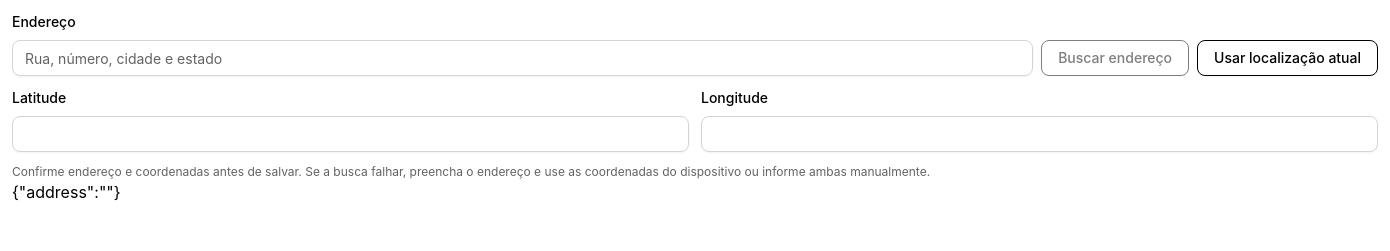
Test: keeps device coordinates but asks for a manual address if reverse lookup fails
The width and height of the screenshot is (1390, 251).
Click the button "Usar localização atual".
click(1288, 58)  # box [1197,40,1378,76]
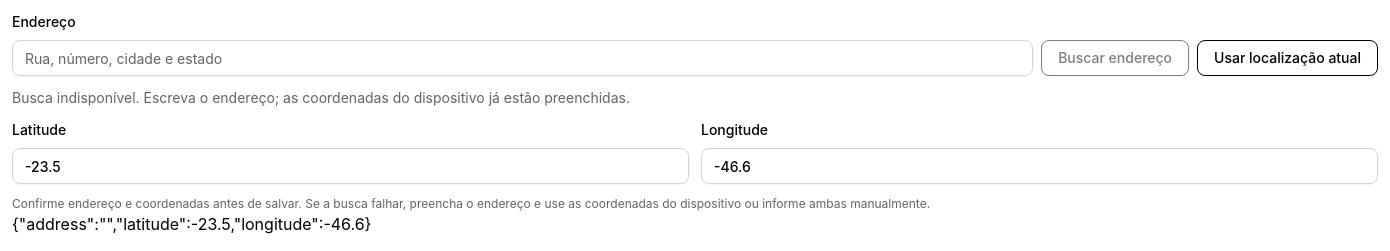
Expected: the text "Busca indisponível. Escreva o endereço" is shown, [12,89,630,106]
Type "Rua Manual" into the field labelled "Endereço".
click(523, 58); type("Rua Manual")  # box [12,40,1033,76]
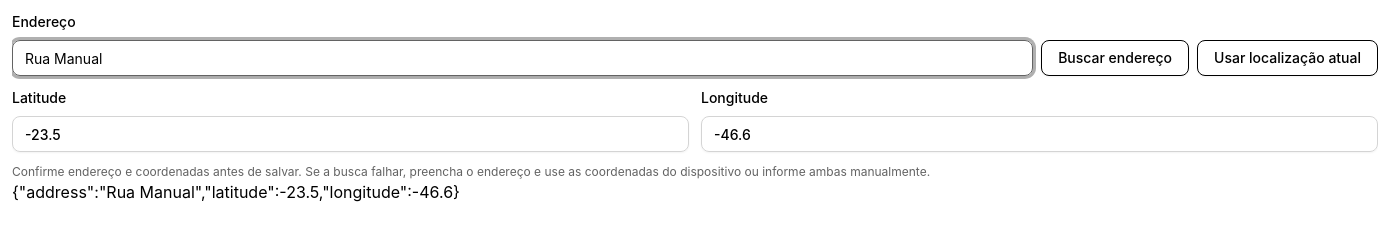
Expected: the text with test id "location" shows "\"latitude\":-23.5", [12,182,460,202]
Expected: the text with test id "location" shows "Rua Manual", [12,182,460,202]
